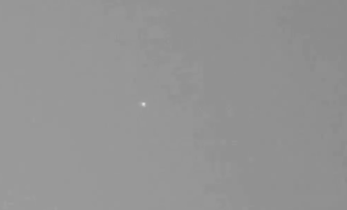Target: (143, 103, 145, 106)
